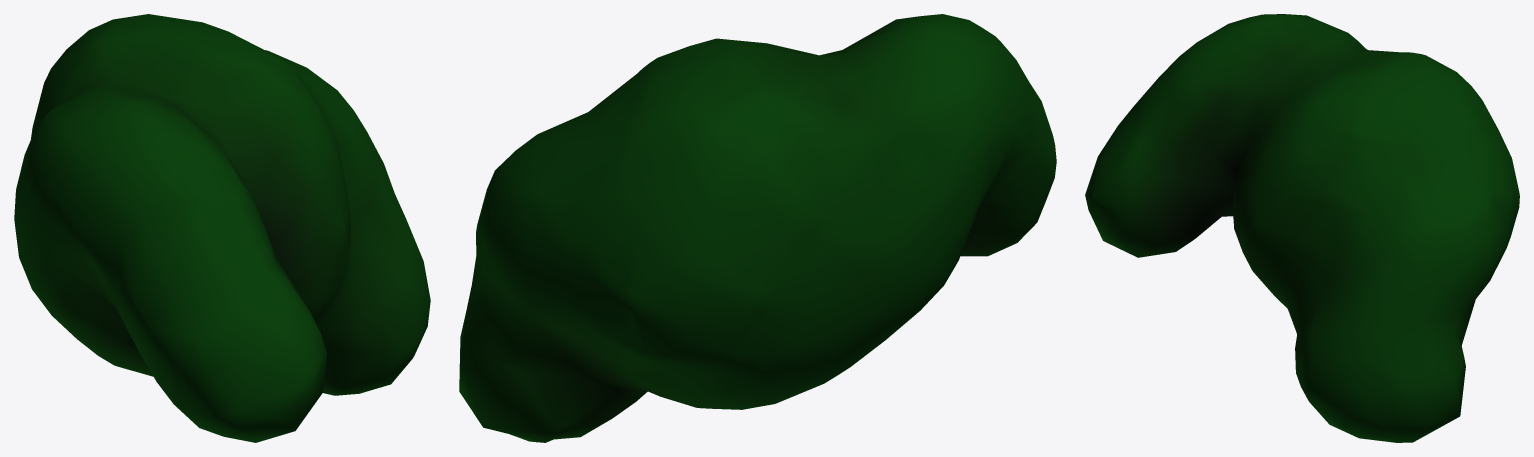
Rendered from DAL80.fbx.
The picture shows the model from 3 angles, left to right: view 1: azimuth 30°, elevation 25°; view 2: azimuth 150°, elevation 25°; view 3: azimuth 270°, elevation 25°; orthographic projection. The views are drawn at different scales.
Parts seen in each view (by area): view 1: chain_A_surface; view 2: chain_A_surface; view 3: chain_A_surface.
Part boxes in pixels (x1,y1,x2,y2): chain_A_surface: [14, 14, 430, 442]; chain_A_surface: [459, 14, 1056, 442]; chain_A_surface: [1085, 14, 1519, 442].
Bounding box in the file's own units: 42.29 × 37.84 × 47.84.
